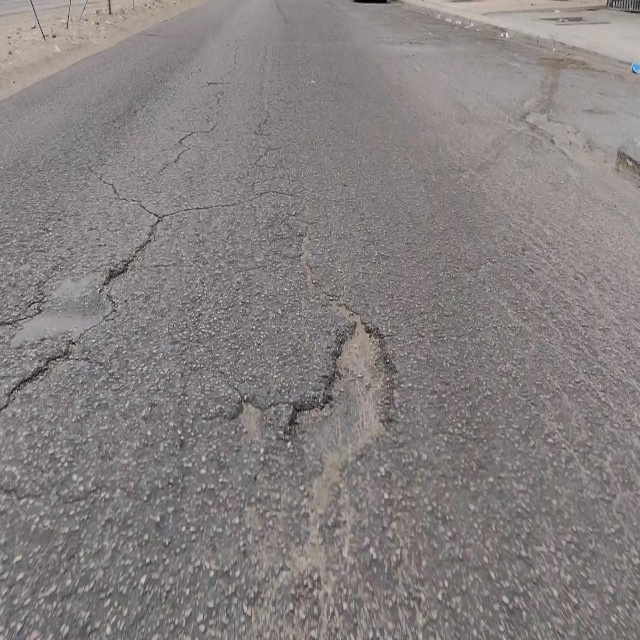pothole: (285, 315, 393, 471)
